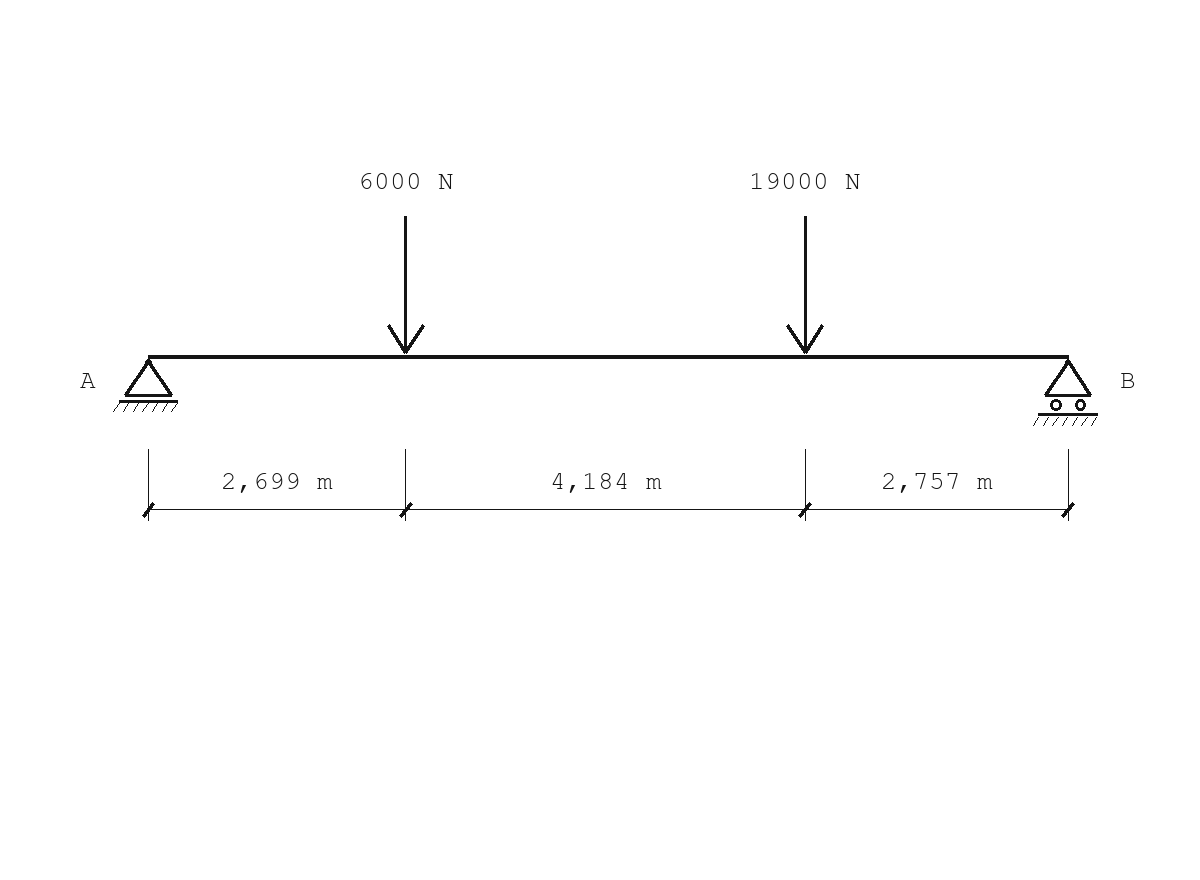pin_support: (113, 359, 178, 412)
point_load: (387, 216, 425, 354), (786, 216, 824, 354)
roller_support: (1033, 359, 1098, 426)
